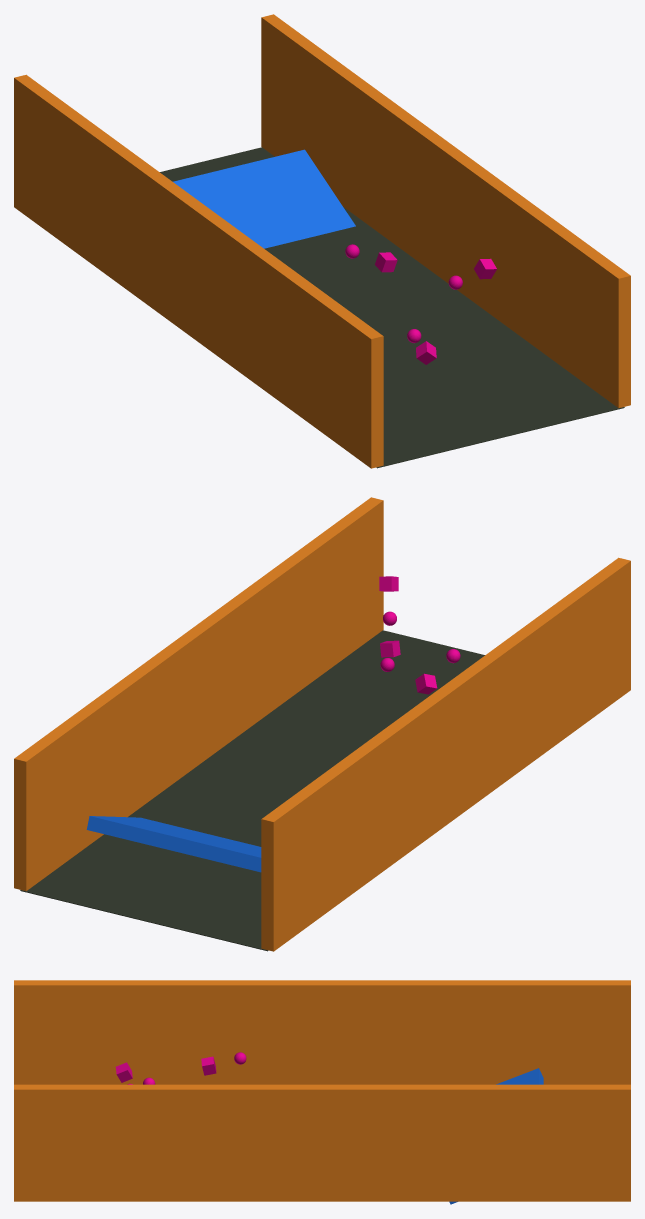
File: simple.gltf
3 views of the same model, one above another, from view 1: azimuth 30°, elevation 25°; view 2: azimuth 150°, elevation 25°; view 3: azimuth 270°, elevation 25° (orthographic). The views are drawn at different scales.
Parts seen in each view (by area): view 1: StaticCube.001, StaticCube.003, StaticCube, StaticCube.002; view 2: StaticCube.001, StaticCube.003, StaticCube, StaticCube.002; view 3: StaticCube.003, StaticCube.001, StaticCube.002.
Part boxes in pixels (x1,y1,x2,y2): StaticCube.001: [14, 74, 383, 468]; StaticCube.003: [261, 14, 630, 408]; StaticCube: [160, 147, 624, 468]; StaticCube.002: [173, 149, 355, 248]; StaticCube.001: [261, 557, 630, 951]; StaticCube.003: [14, 497, 383, 891]; StaticCube: [20, 630, 484, 951]; StaticCube.002: [86, 816, 261, 872]; StaticCube.003: [14, 1084, 630, 1201]; StaticCube.001: [14, 980, 630, 1084]; StaticCube.002: [449, 1068, 543, 1204].
Bounding box in the file's own units: 42 × 22.23 × 100.
